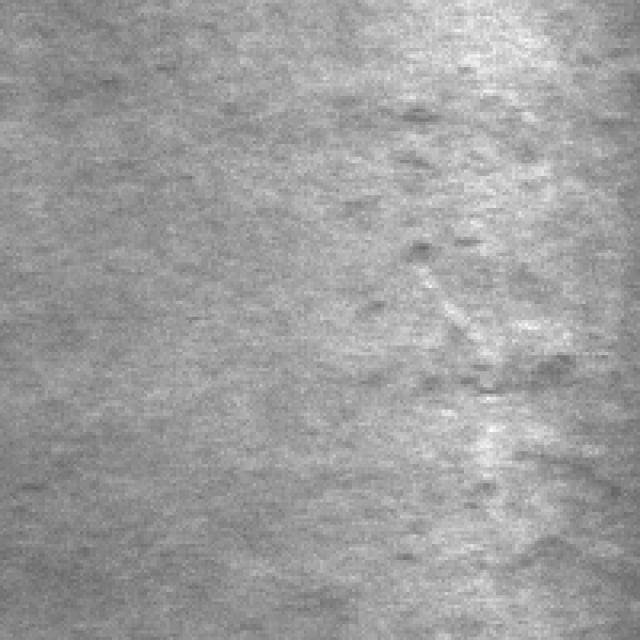rolled-in_scale: (378, 96, 547, 390)
